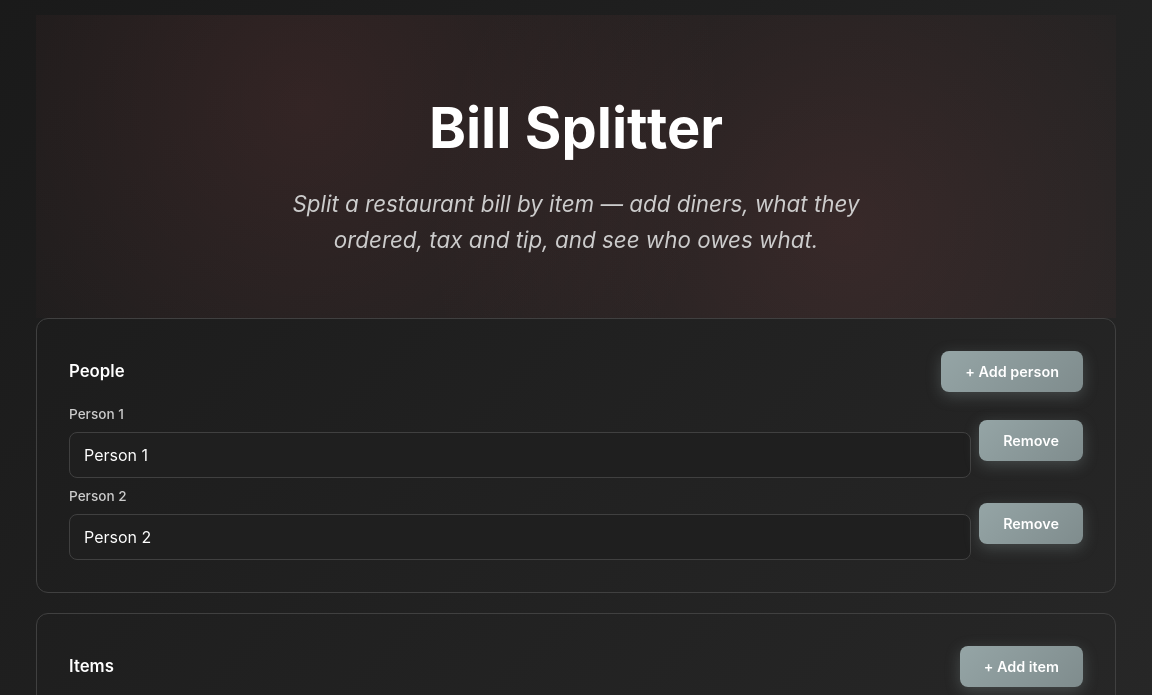
Test: <BillSplitter /> › Add item creates an item row assigned to the first person
Click the button "+ Add item" at [1021, 667], box [960,646,1083,687]
(page scrolled)
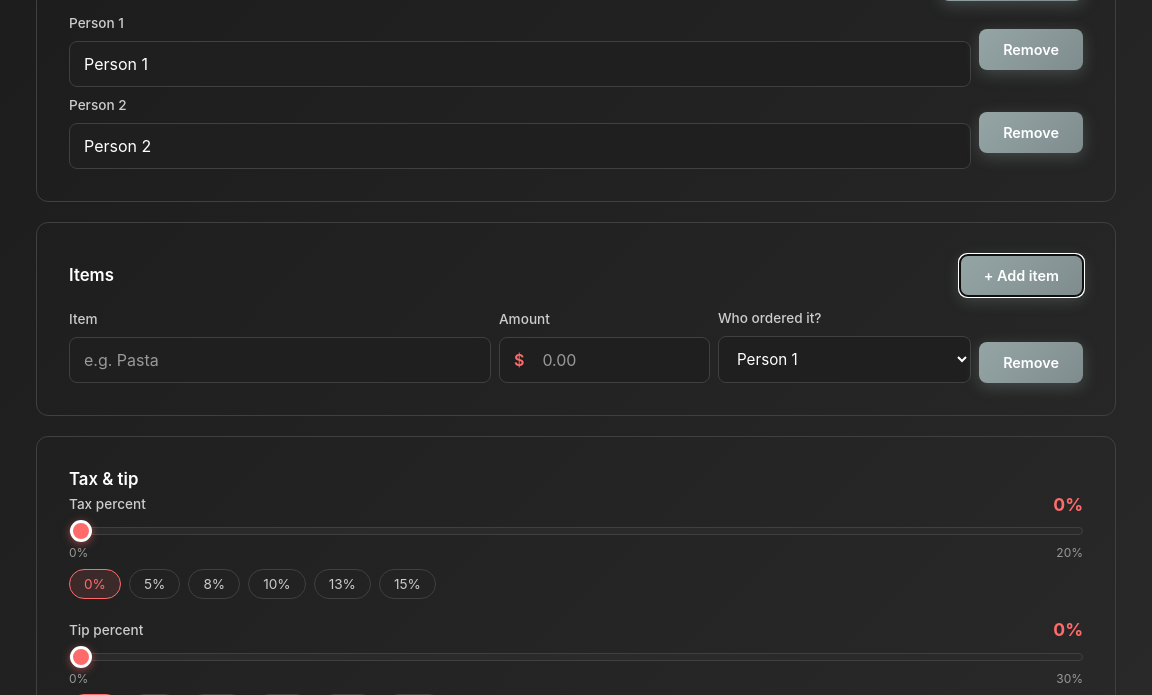
expect the field labelled "Item" is shown: met, box [69,337,491,383]
expect the number field labelled "Amount" is shown: met, box [528,338,709,382]
expect the dropdown labelled "Who ordered it?" is shown: met, box [718,336,971,383]
